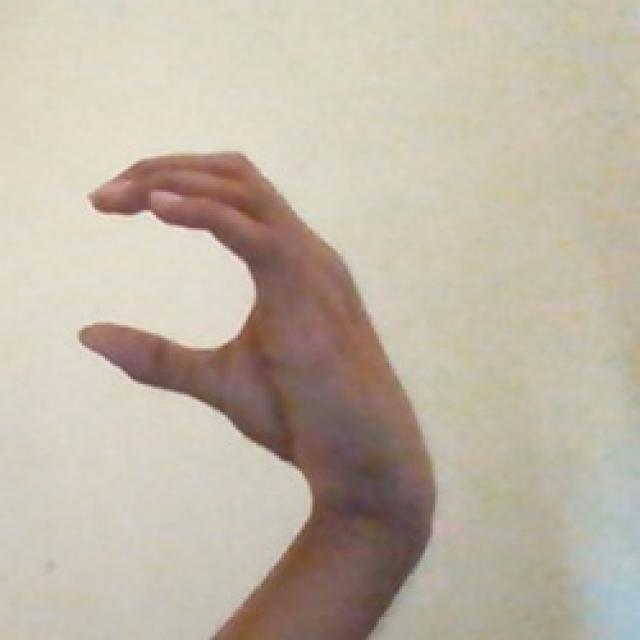Alphabet-C: (55, 142, 436, 514)
